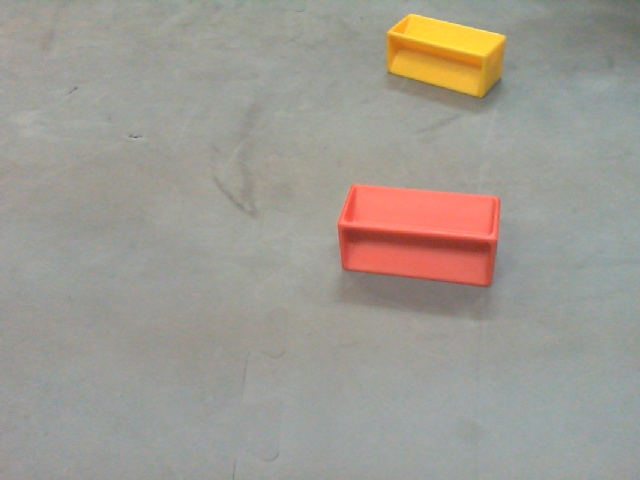RedSample: (334, 184, 505, 284)
YellowSample: (382, 11, 507, 98)
